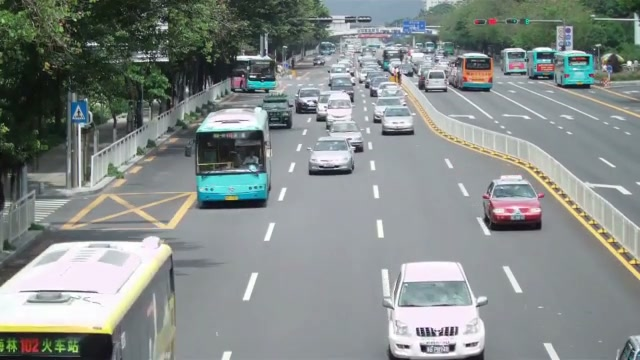bus: (0, 236, 177, 356), (194, 107, 273, 208), (231, 55, 277, 92), (553, 50, 595, 87), (458, 51, 494, 91), (527, 47, 556, 80), (501, 48, 528, 76)
car: (382, 260, 488, 358), (481, 176, 544, 230), (308, 137, 355, 176), (326, 119, 365, 153), (381, 105, 415, 136), (373, 96, 410, 122), (325, 94, 353, 126), (329, 75, 356, 103), (295, 86, 321, 113), (615, 334, 640, 360), (424, 69, 448, 93), (312, 57, 325, 66)
